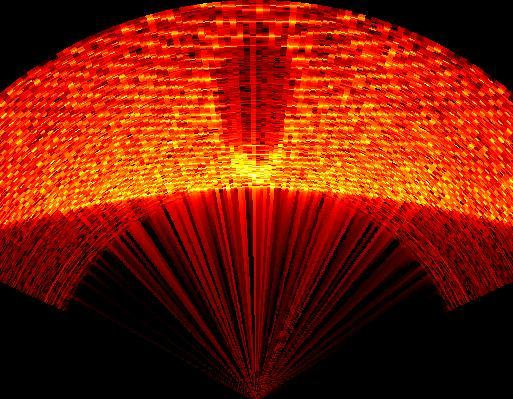box_crate: (212, 32, 294, 161)
